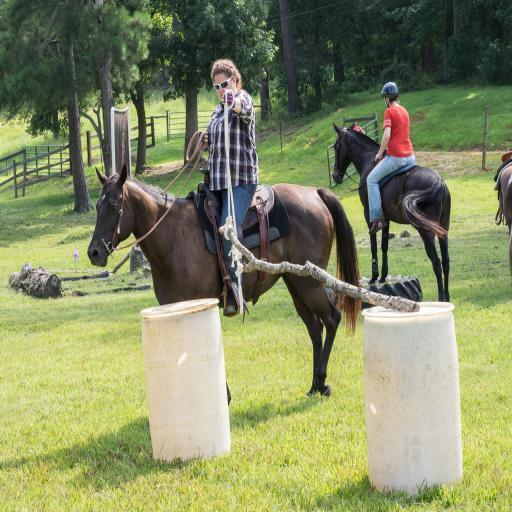horse: (86, 162, 363, 406), (332, 121, 452, 301)
